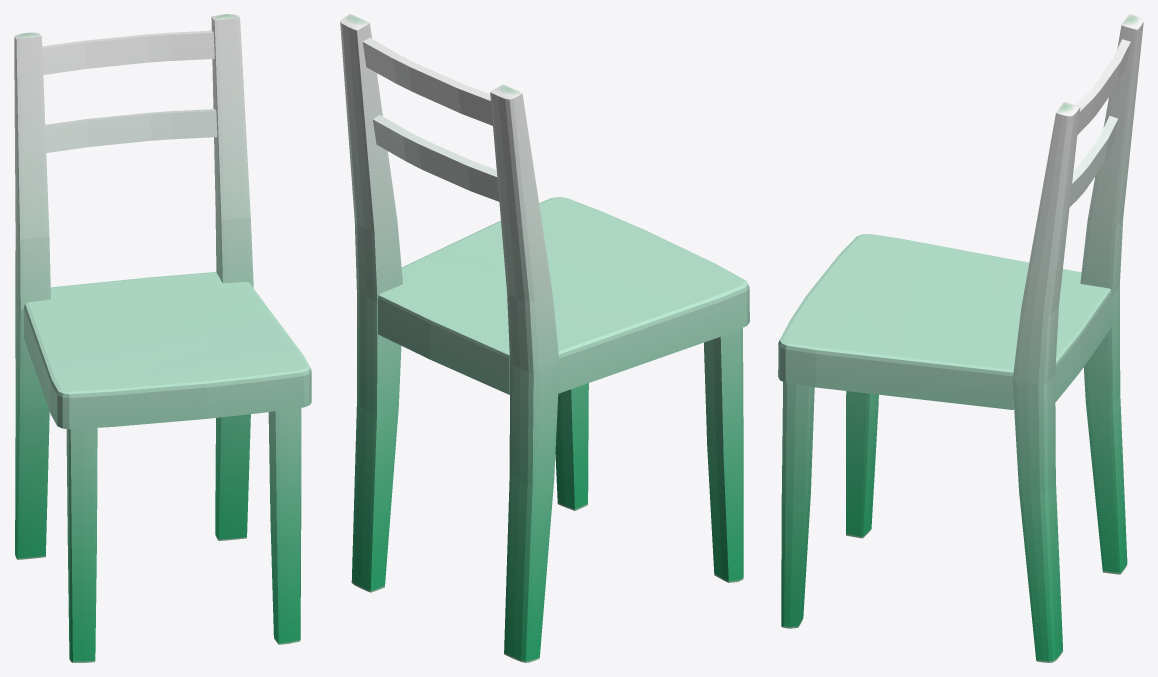
The model's file is Chair.fbx.
The picture shows the model from 3 angles, left to right: view 1: azimuth 30°, elevation 25°; view 2: azimuth 150°, elevation 25°; view 3: azimuth 270°, elevation 25°; orthographic projection. The views are drawn at different scales.
Visible parts, largest first — view 1: Chair; view 2: Chair; view 3: Chair.
Part boxes in pixels (<box>): Chair: <box>14,14,311,662</box>; Chair: <box>340,14,749,662</box>; Chair: <box>778,14,1143,662</box>.
Size of the model in its own units: 5.45 by 9.83 by 5.91.
1 material, 1 textured.
